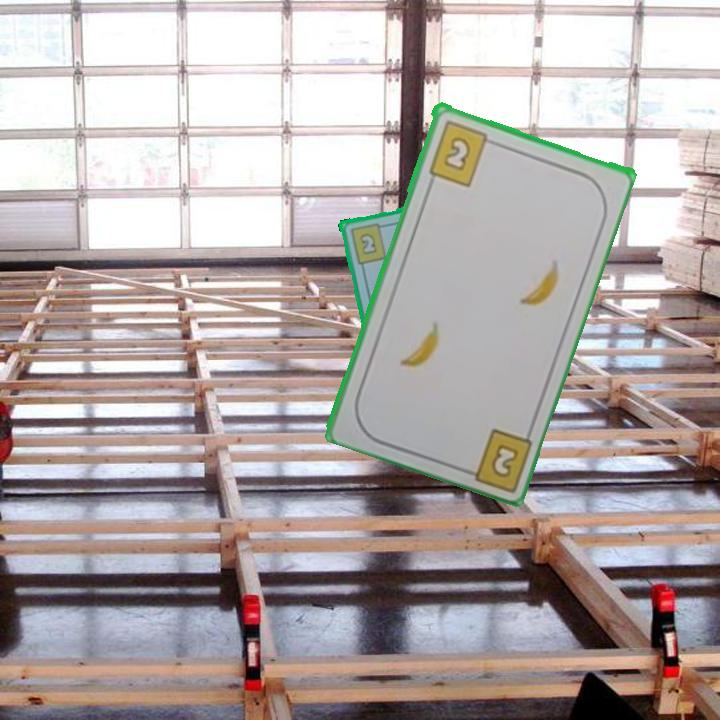2b: (424, 116, 499, 188), (457, 424, 535, 491), (346, 219, 389, 266)
